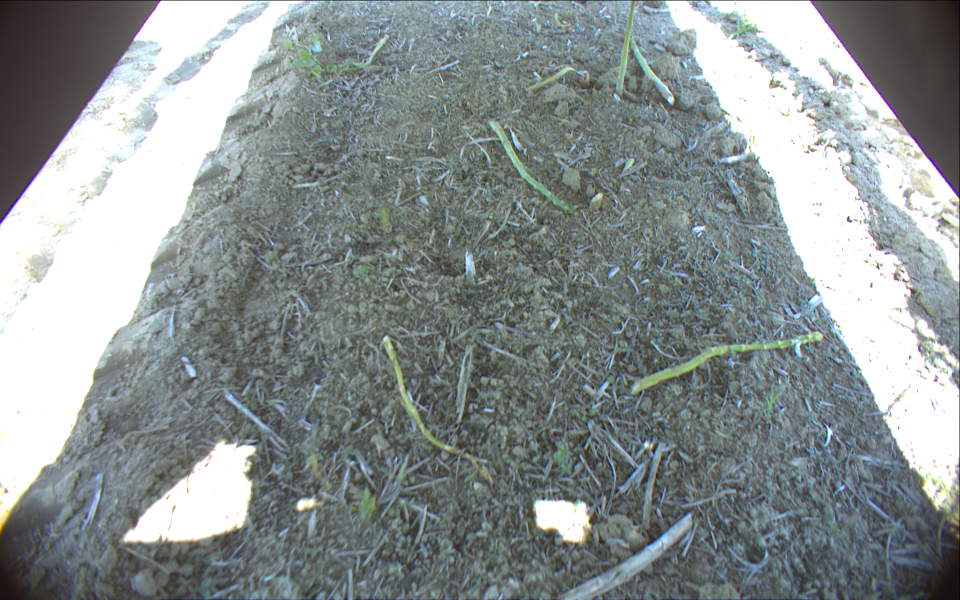aspa: (627, 328, 825, 395), (381, 334, 483, 461), (488, 117, 572, 214), (628, 34, 675, 105), (616, 1, 637, 95), (525, 65, 581, 93), (353, 34, 391, 67)
